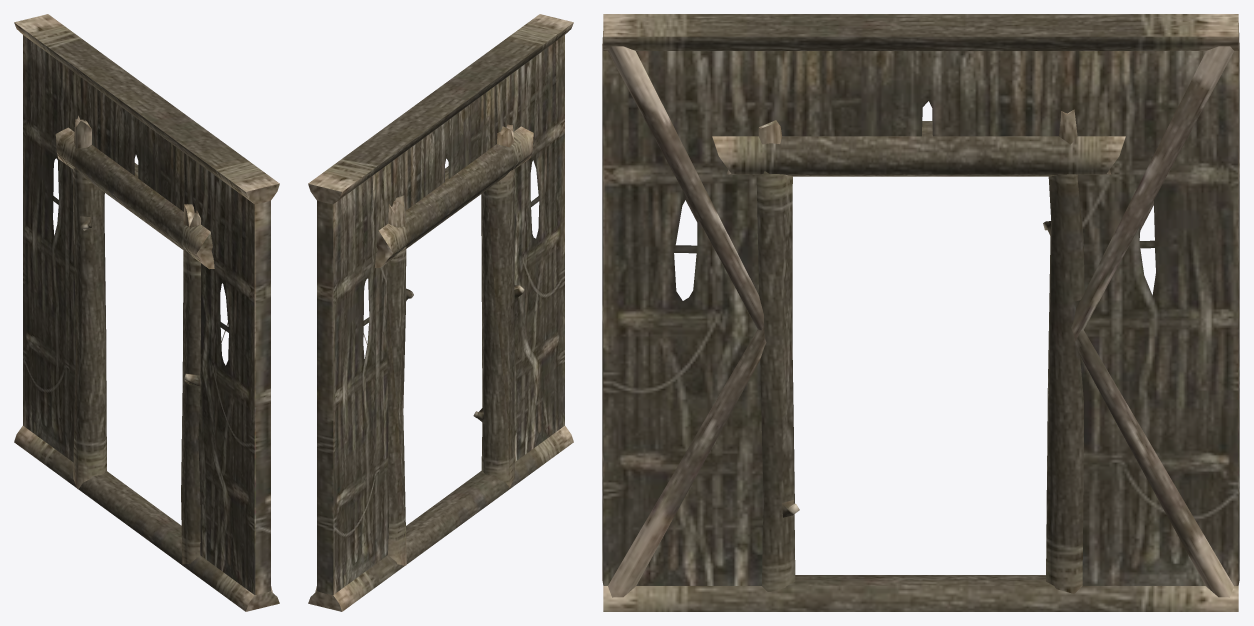
The model's file is wall.doorway.twig.glb.
3 views of the same model, side by side, from view 1: azimuth 30°, elevation 25°; view 2: azimuth 150°, elevation 25°; view 3: azimuth 270°, elevation 25° (orthographic). The views are drawn at different scales.
Visible parts, largest first — view 1: LOD0; view 2: LOD0; view 3: LOD0.
Boxes of the visible parts, left/top/right/bottom form: LOD0: left=14, top=14, right=279, bottom=611; LOD0: left=308, top=14, right=573, bottom=611; LOD0: left=602, top=14, right=1239, bottom=611.
Bounding box in the file's own units: 0.3 × 3 × 3.01.
Materials: 1 (1 with a texture image).
